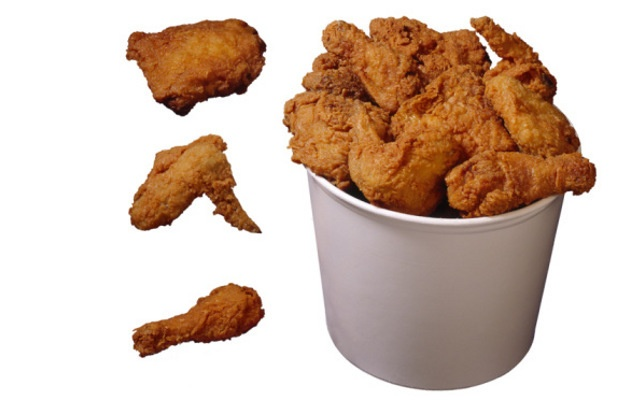ayam_goreng: (112, 123, 271, 250), (114, 15, 285, 110), (110, 268, 272, 356), (443, 149, 606, 214)
